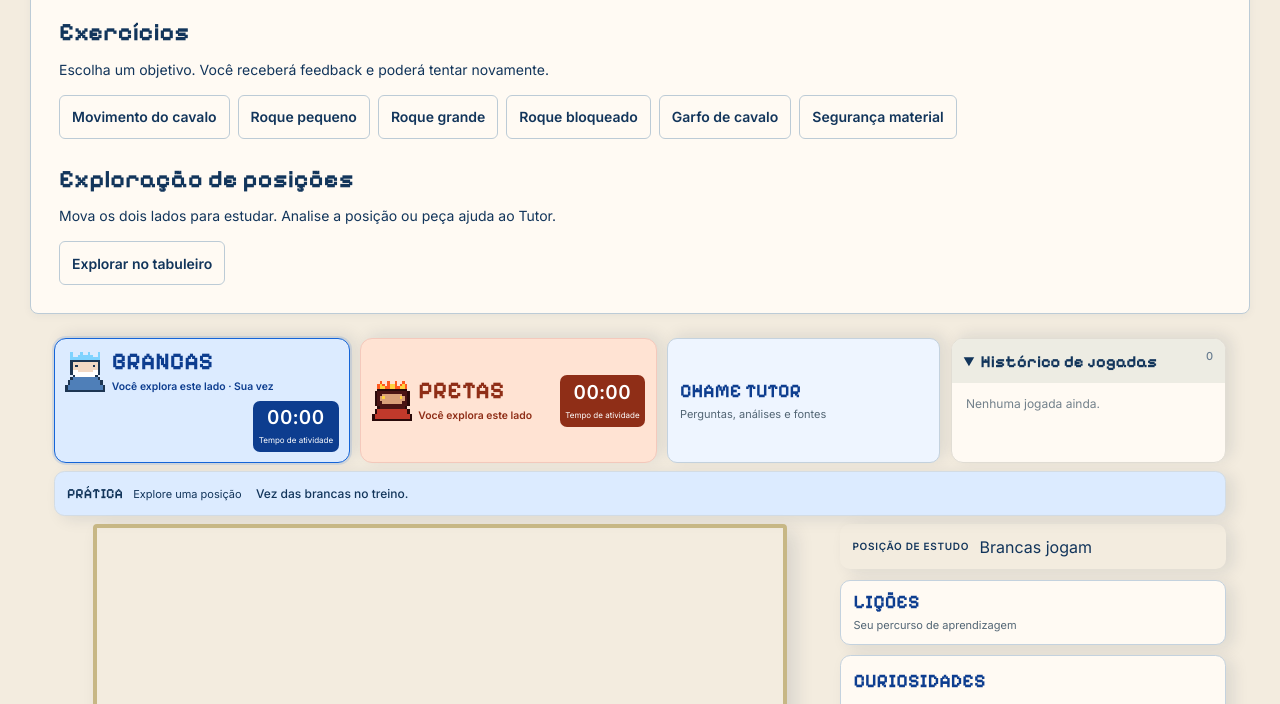
Test: erro da API aparece no chat com o .resposta do backend
The image size is (1280, 704).
(page scrolled)
Click the button "CHAME TUTOR Perguntas, análises e fontes" at (804, 401), box [667,338,940,463]
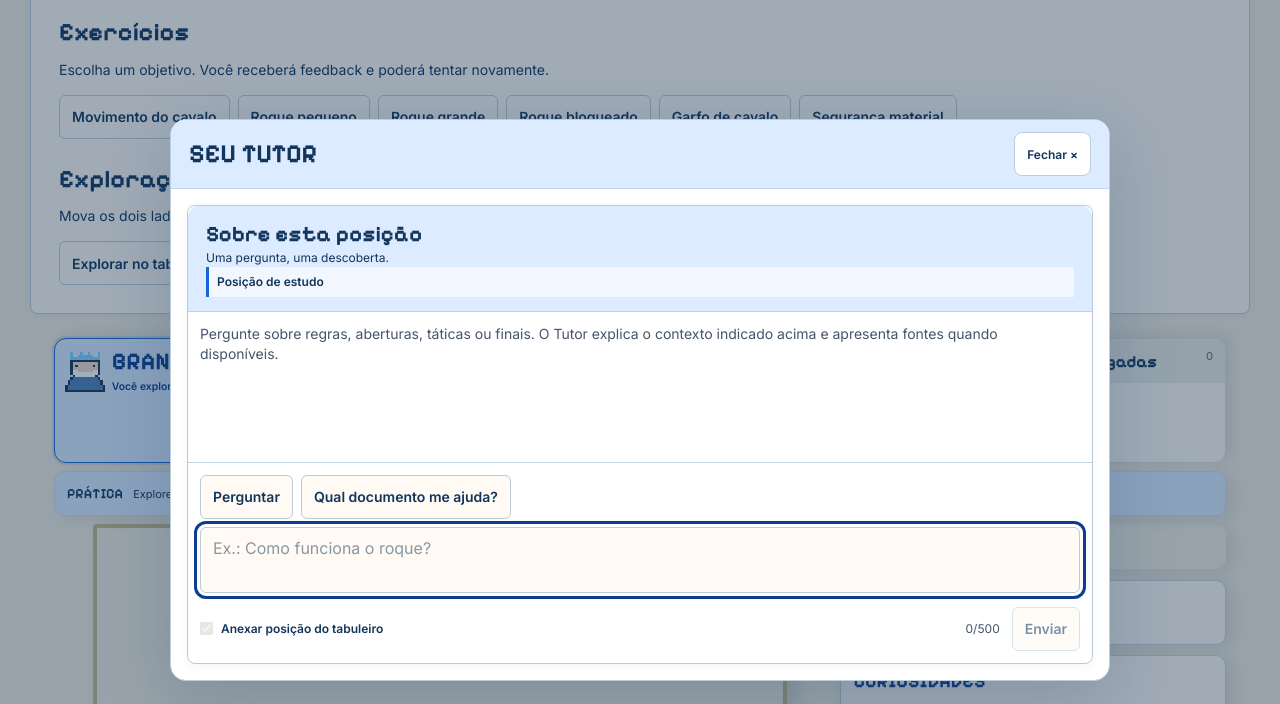
Type "roque?" into the text box named "Sua pergunta" at (640, 560), box [200,527,1080,593]
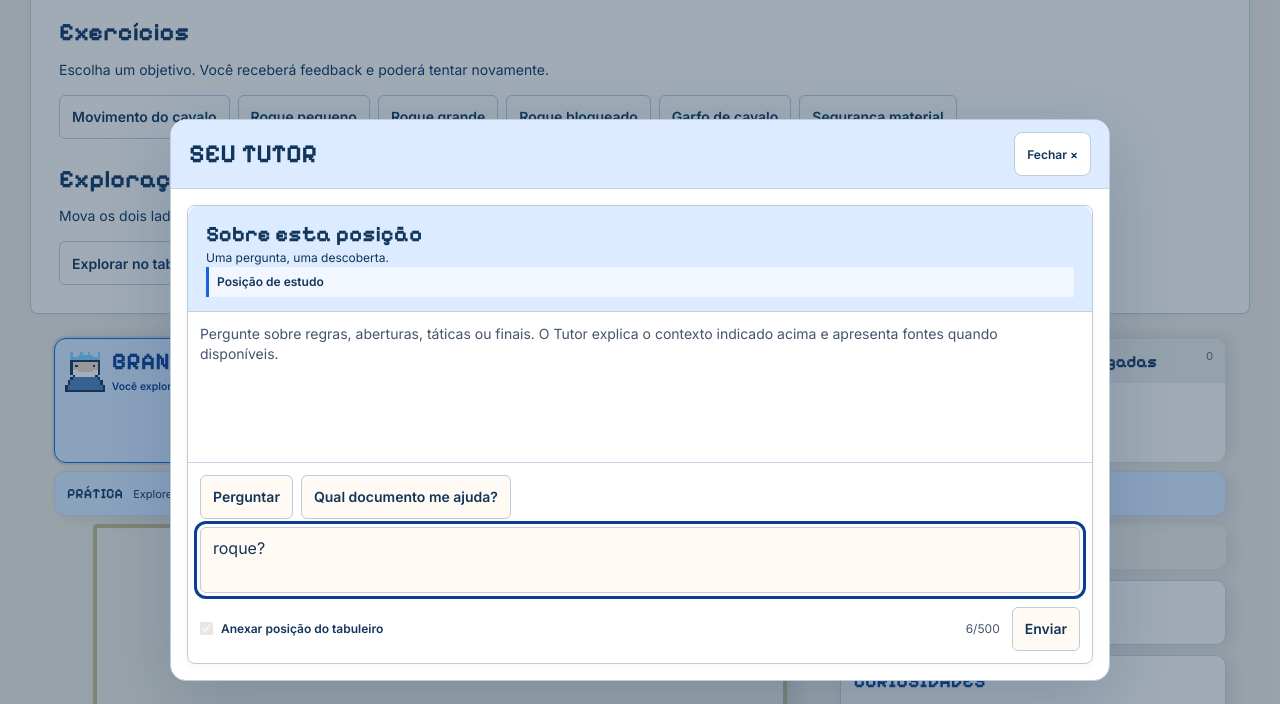
Click the button "Enviar" at (1046, 629), box [1012,607,1080,651]
(page scrolled)
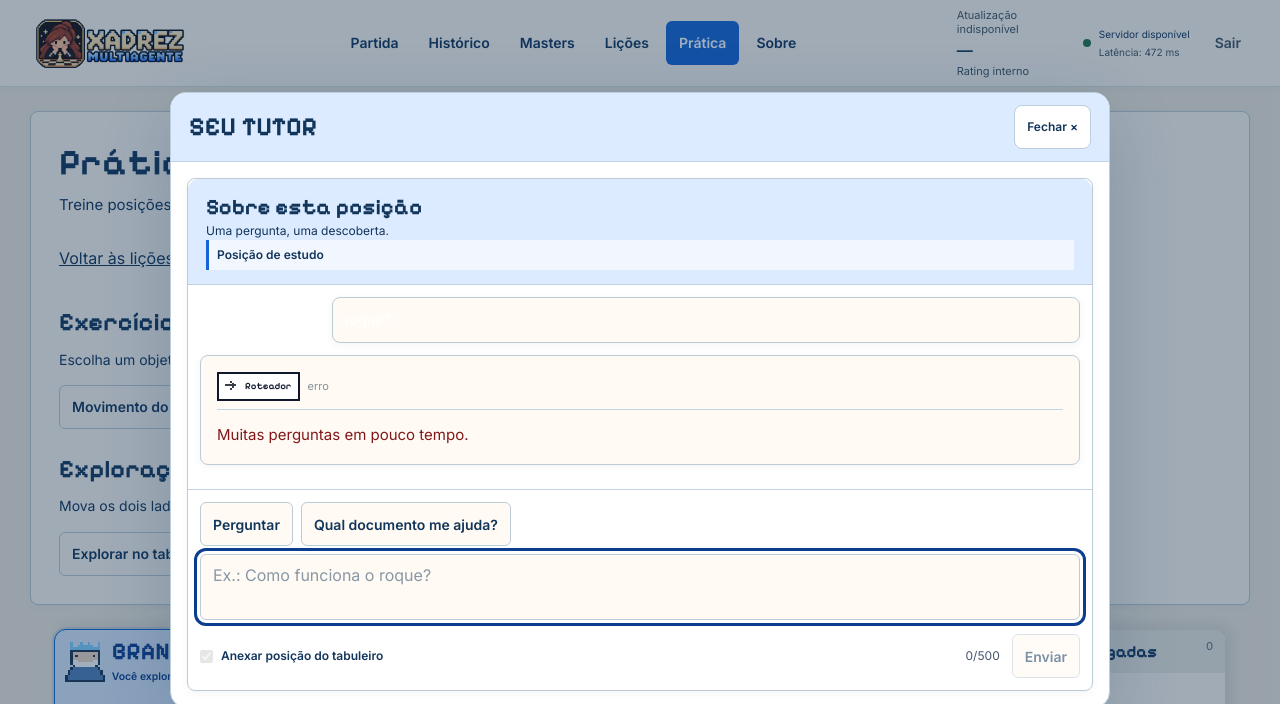
Check: the text "Muitas perguntas em pouco tempo." is shown, box [217,425,468,444]
